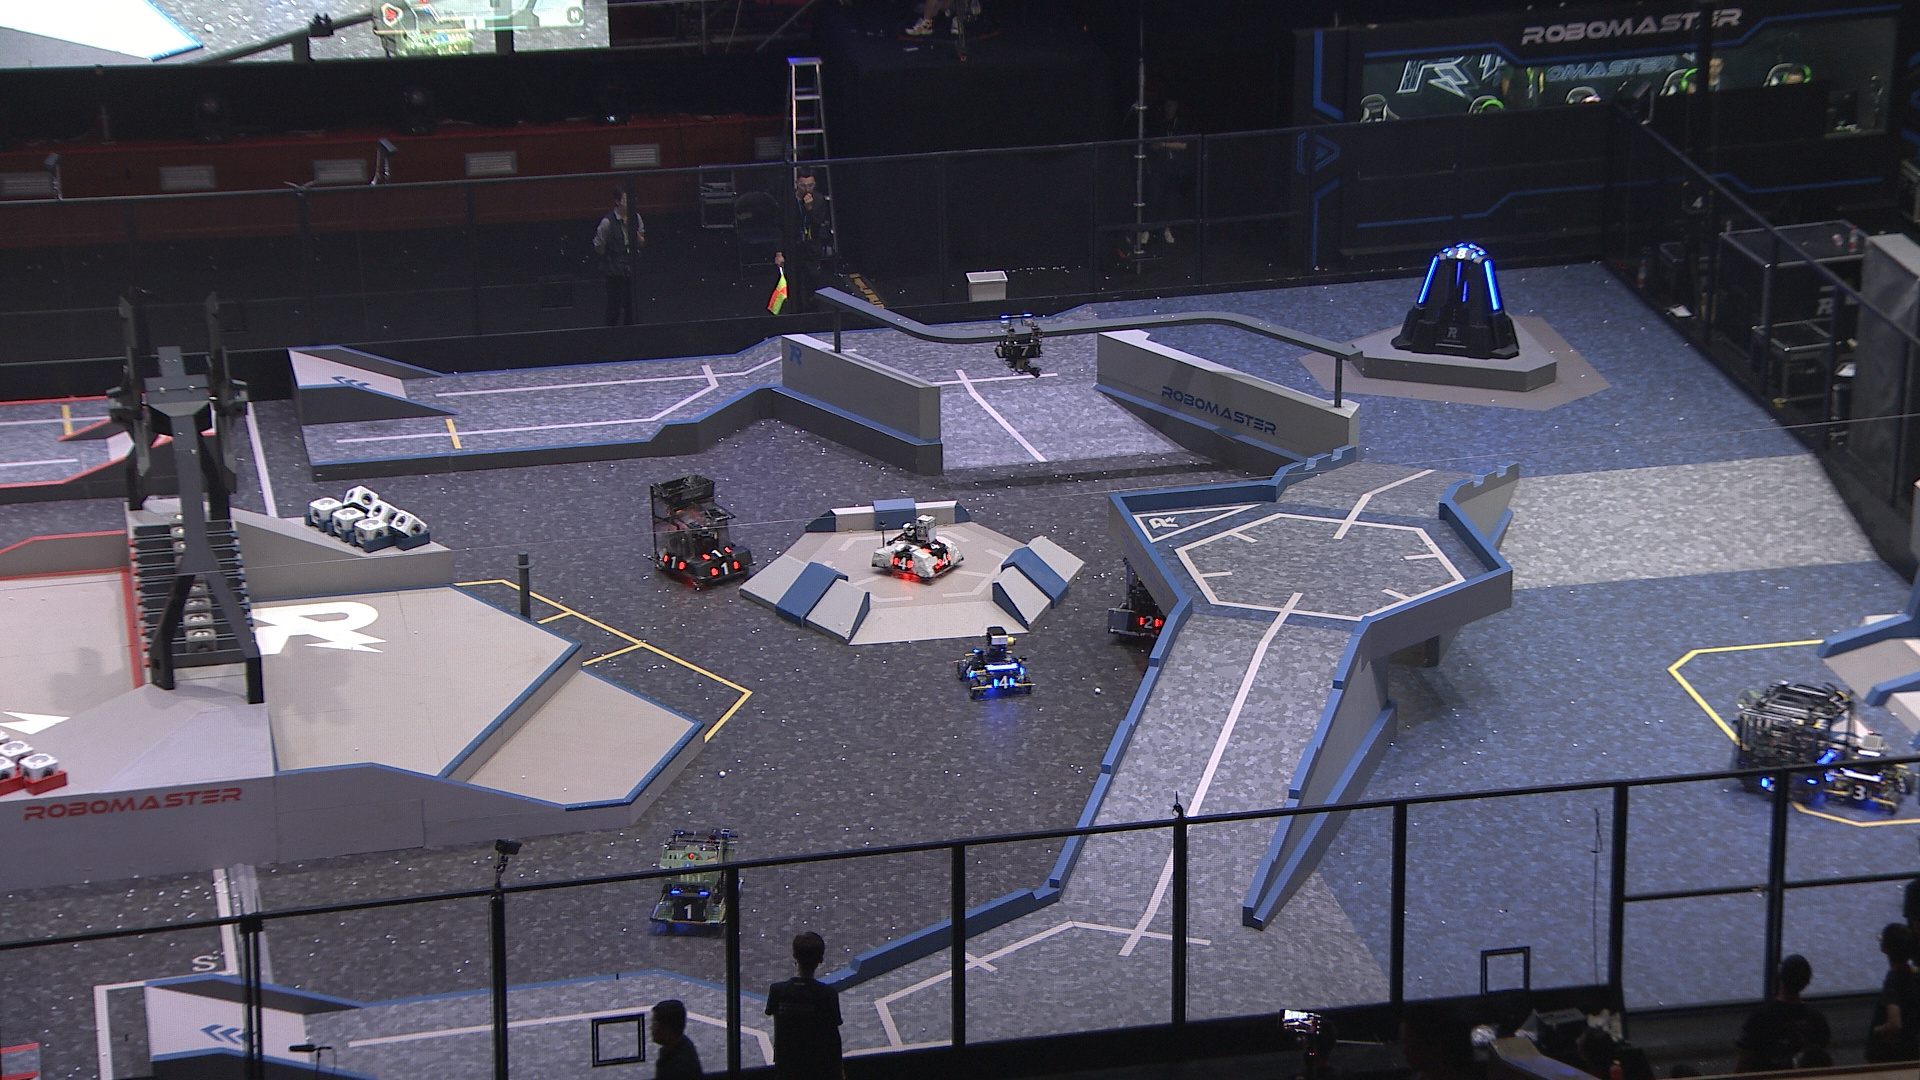armor: (1416, 256, 1437, 306), (1484, 258, 1501, 313), (670, 898, 707, 920), (1845, 782, 1874, 802), (1447, 244, 1480, 261), (707, 560, 741, 576), (1135, 612, 1162, 632), (1010, 343, 1040, 360), (661, 553, 686, 571), (700, 547, 732, 560), (992, 673, 1015, 690), (1759, 773, 1779, 793), (891, 555, 915, 571), (1892, 775, 1909, 796), (960, 662, 975, 680), (922, 541, 944, 553), (935, 553, 951, 568), (1456, 258, 1462, 286)
base: (1390, 243, 1523, 360)
car: (1730, 680, 1855, 806), (645, 472, 756, 593), (1105, 538, 1196, 647), (647, 829, 746, 928), (1825, 732, 1917, 815), (869, 514, 964, 584), (953, 626, 1035, 698)
ignore: (380, 12, 473, 58)
watcher: (994, 311, 1044, 377)
